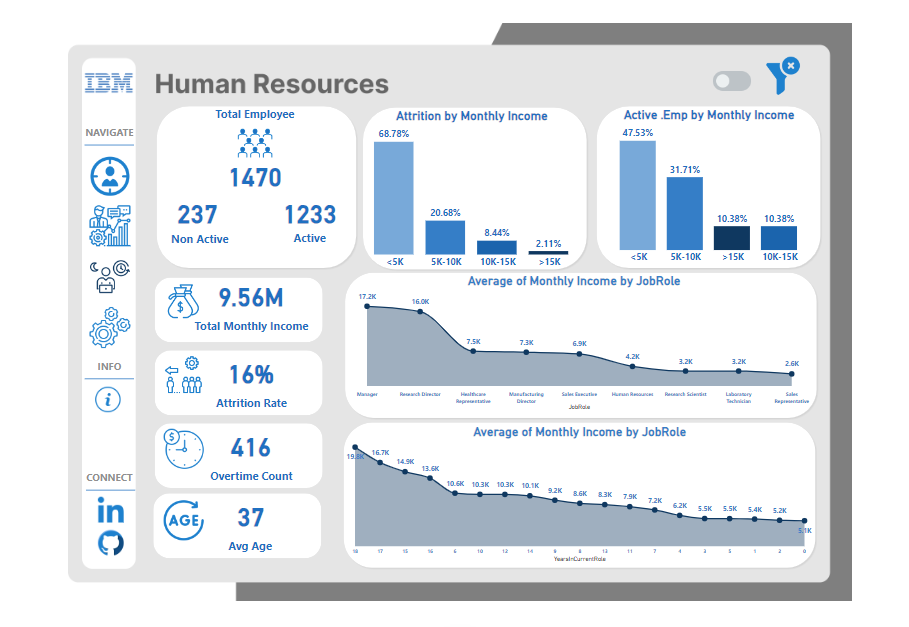

The page's visual inventory and layout, read from the dashboard file:
{"tool":"powerbi","page":{"name":"Compensation","canvas":[1900,1400],"ordinal":2},"visuals":[{"type":"shape","box":[1275,197.5,552.5,402.5],"z":0,"group":"g6"},{"type":"group","id":"g1","title":"Group 1","box":[210,198,494,404],"z":0},{"type":"shape","box":[210,198.5,493.6,402.5],"z":0,"group":"g1"},{"type":"shape","box":[712.5,200,552.5,402.5],"z":0,"group":"g7"},{"type":"shape","box":[666.6,600,1153.4,362.5],"z":0,"group":"g8"},{"type":"shape","box":[210,615.6,407.5,157.5],"z":0,"group":"g2"},{"type":"shape","box":[210,792.5,407.5,157.5],"z":0,"group":"g3"},{"type":"shape","box":[664.2,962,1153.4,362.5],"z":0,"group":"g9"},{"type":"shape","box":[210,968.4,407.5,157.5],"z":0,"group":"g4"},{"type":"shape","box":[40,1121,120,25],"z":0,"group":"g10"},{"type":"shape","box":[208,1140.5,407.5,157.5],"z":0,"group":"g5"},{"type":"columnChart","title":"Attrition by Monthly Income","fields":{"Category":["Employee (Fact).MonthyIncomeGroup"],"Y":["Dax_Measure.# Attrition employees"]},"box":[688.1,205,585,397.5],"z":1000,"group":"g7"},{"type":"columnChart","title":"Active .Emp by Monthly Income","fields":{"Category":["Employee (Fact).MonthyIncomeGroup"],"Y":["Divide(Dax_Measure.# Current employees, ScopedEval(Dax_Measure.# Current employees, []))"]},"box":[1285,205,535,390],"z":1000,"group":"g6"},{"type":"card","title":"Employee","fields":{"Values":["Dax_Measure.Total Employees"]},"box":[367.9,318,171.7,98],"z":1000,"group":"g1"},{"type":"lineChart","title":"Average of Monthly Income by JobRole","fields":{"Y":["Avg(Employee (Fact).MonthlyIncome)"],"Category":["JobRole (Dim).JobRole"]},"box":[634.4,607.5,1187.5,337.5],"z":1000,"group":"g8"},{"type":"group","id":"g2","title":"Group 2","box":[210,612.5,407.5,160.6],"z":1000},{"type":"card","fields":{"Values":["Dax_Measure.Total Monthly Income"]},"box":[316.8,612.5,252.5,87.5],"z":1000,"group":"g2"},{"type":"card","fields":{"Values":["Dax_Measure.Attrition Rate"]},"box":[316.8,799.7,252.5,87.5],"z":1000,"group":"g3"},{"type":"card","fields":{"Values":["Dax_Measure.NoEmployees Working Overtime"]},"box":[316.8,975.6,252.5,87.5],"z":1000,"group":"g4"},{"type":"textbox","box":[35,1081,127.5,60],"z":1000,"group":"g10"},{"type":"card","fields":{"Values":["Dax_Measure.JobSatisfaction"]},"box":[317.1,1147.5,252,87.5],"z":1000,"group":"g5"},{"type":"card","fields":{"Values":["Dax_Measure.# Current employees"]},"box":[498.6,408.5,171.7,98],"z":2000,"group":"g1"},{"type":"image","box":[234.2,622.5,92.5,102.5],"z":2000,"group":"g2"},{"type":"textbox","box":[281.8,894.7,322.5,47.5],"z":2000,"group":"g3"},{"type":"textbox","box":[281.8,1070.6,322.5,47.5],"z":2000,"group":"g4"},{"type":"image","box":[40.6,1144.4,120,72.5],"z":2000,"group":"g10"},{"type":"textbox","box":[281.8,1242.7,322.5,47.5],"z":2000,"group":"g5"},{"type":"card","fields":{"Values":["Dax_Measure.# Attrition employees"]},"box":[247.2,408.5,132.8,98],"z":3000,"group":"g1"},{"type":"textbox","box":[281.8,707.5,322.5,47.5],"z":3000,"group":"g2"},{"type":"group","id":"g3","title":"Group 3","box":[210,792.5,407.5,157.5],"z":3000},{"type":"image","box":[227.9,800,105,105],"z":3000,"group":"g3"},{"type":"image","box":[225,972.5,107.5,117.5],"z":3000,"group":"g4"},{"type":"image","box":[227.5,1147.5,107.5,117.5],"z":3000,"group":"g5"},{"type":"image","box":[40.6,1224.4,120,72.5],"z":3000,"group":"g10"},{"type":"textbox","box":[321,198,265.6,70],"z":4000,"group":"g1"},{"type":"group","id":"g4","title":"Group 4","box":[210,968.4,407.5,157.5],"z":4000},{"type":"image","box":[406.8,242,93.8,102],"z":5000,"group":"g1"},{"type":"group","id":"g5","title":"Group 5","box":[208,1140.5,407.5,157.5],"z":5000},{"type":"group","id":"g6","title":"Group 6","box":[1275,197.5,552.5,402.5],"z":6000},{"type":"textbox","box":[241.9,500.5,159.4,70],"z":6000,"group":"g1"},{"type":"group","id":"g7","title":"Group 7","box":[688.1,200,585,402.5],"z":7000},{"type":"textbox","box":[521.6,497.5,131,70],"z":7000,"group":"g1"},{"type":"group","id":"g8","title":"Group 8","box":[634.4,600,1187.5,362.5],"z":8000},{"type":"group","id":"g9","title":"Group 8","box":[664.2,962,1153.4,362.5],"z":9000},{"type":"image","box":[36.7,315.3,130,110],"z":10000},{"type":"lineChart","title":"Average of Monthly Income by JobRole","fields":{"Y":["Avg(Employee (Fact).MonthlyIncome)"],"Category":["Employee (Fact).YearsInCurrentRole"]},"box":[666,972,1148,338],"z":10500},{"type":"image","box":[36.7,437.7,130,110],"z":11000},{"type":"textbox","box":[35,244,127.5,60],"z":12000},{"type":"shape","box":[40,284,120,25],"z":13000},{"type":"image","box":[36.7,682.5,130,110],"z":14000},{"type":"shape","box":[40,851,120,25],"z":15000},{"type":"textbox","box":[35,811,127.5,60],"z":16000},{"type":"image","box":[37.5,877.5,120,72],"z":17000},{"type":"group","id":"g10","title":"Group 11","box":[35,1081,127.5,215.9],"z":18000},{"type":"image","box":[36.7,560.1,130,110],"z":19000},{"type":"image","box":[1662.5,77.5,140,102.5],"z":20000},{"type":"image","box":[1552.5,65,112.5,147.5],"z":24000}]}

Visuals, with their boxes on the page's 1900x1400 design canvas (x1, y1, x2, y2). These are canvas units, not pixel positions in the 909x627 screenshot, which may show the page scaled, cropped or inside an application window:
shape: (x1=1275, y1=198, x2=1828, y2=600)
"Group 1" group: (x1=210, y1=198, x2=704, y2=602)
shape: (x1=210, y1=198, x2=704, y2=601)
shape: (x1=712, y1=200, x2=1265, y2=602)
shape: (x1=667, y1=600, x2=1820, y2=962)
shape: (x1=210, y1=616, x2=618, y2=773)
shape: (x1=210, y1=792, x2=618, y2=950)
shape: (x1=664, y1=962, x2=1818, y2=1324)
shape: (x1=210, y1=968, x2=618, y2=1126)
shape: (x1=40, y1=1121, x2=160, y2=1146)
shape: (x1=208, y1=1140, x2=616, y2=1298)
"Attrition by Monthly Income" columnChart: (x1=688, y1=205, x2=1273, y2=602)
"Active .Emp by Monthly Income" columnChart: (x1=1285, y1=205, x2=1820, y2=595)
"Employee" card: (x1=368, y1=318, x2=540, y2=416)
"Average of Monthly Income by JobRole" lineChart: (x1=634, y1=608, x2=1822, y2=945)
"Group 2" group: (x1=210, y1=612, x2=618, y2=773)
card - Dax_Measure.Total Monthly Income: (x1=317, y1=612, x2=569, y2=700)
card - Dax_Measure.Attrition Rate: (x1=317, y1=800, x2=569, y2=887)
card - Dax_Measure.NoEmployees Working Overtime: (x1=317, y1=976, x2=569, y2=1063)
textbox: (x1=35, y1=1081, x2=162, y2=1141)
card - Dax_Measure.JobSatisfaction: (x1=317, y1=1148, x2=569, y2=1235)
card - Dax_Measure.# Current employees: (x1=499, y1=408, x2=670, y2=506)
image: (x1=234, y1=622, x2=327, y2=725)
textbox: (x1=282, y1=895, x2=604, y2=942)
textbox: (x1=282, y1=1071, x2=604, y2=1118)
image: (x1=41, y1=1144, x2=161, y2=1217)
textbox: (x1=282, y1=1243, x2=604, y2=1290)
card - Dax_Measure.# Attrition employees: (x1=247, y1=408, x2=380, y2=506)
textbox: (x1=282, y1=708, x2=604, y2=755)
"Group 3" group: (x1=210, y1=792, x2=618, y2=950)
image: (x1=228, y1=800, x2=333, y2=905)
image: (x1=225, y1=972, x2=332, y2=1090)
image: (x1=228, y1=1148, x2=335, y2=1265)
image: (x1=41, y1=1224, x2=161, y2=1297)
textbox: (x1=321, y1=198, x2=587, y2=268)
"Group 4" group: (x1=210, y1=968, x2=618, y2=1126)
image: (x1=407, y1=242, x2=501, y2=344)
"Group 5" group: (x1=208, y1=1140, x2=616, y2=1298)
"Group 6" group: (x1=1275, y1=198, x2=1828, y2=600)
textbox: (x1=242, y1=500, x2=401, y2=570)
"Group 7" group: (x1=688, y1=200, x2=1273, y2=602)
textbox: (x1=522, y1=498, x2=653, y2=568)
"Group 8" group: (x1=634, y1=600, x2=1822, y2=962)
"Group 8" group: (x1=664, y1=962, x2=1818, y2=1324)
image: (x1=37, y1=315, x2=167, y2=425)
"Average of Monthly Income by JobRole" lineChart: (x1=666, y1=972, x2=1814, y2=1310)
image: (x1=37, y1=438, x2=167, y2=548)
textbox: (x1=35, y1=244, x2=162, y2=304)
shape: (x1=40, y1=284, x2=160, y2=309)
image: (x1=37, y1=682, x2=167, y2=792)
shape: (x1=40, y1=851, x2=160, y2=876)
textbox: (x1=35, y1=811, x2=162, y2=871)
image: (x1=38, y1=878, x2=158, y2=950)
"Group 11" group: (x1=35, y1=1081, x2=162, y2=1297)
image: (x1=37, y1=560, x2=167, y2=670)
image: (x1=1662, y1=78, x2=1802, y2=180)
image: (x1=1552, y1=65, x2=1665, y2=212)
